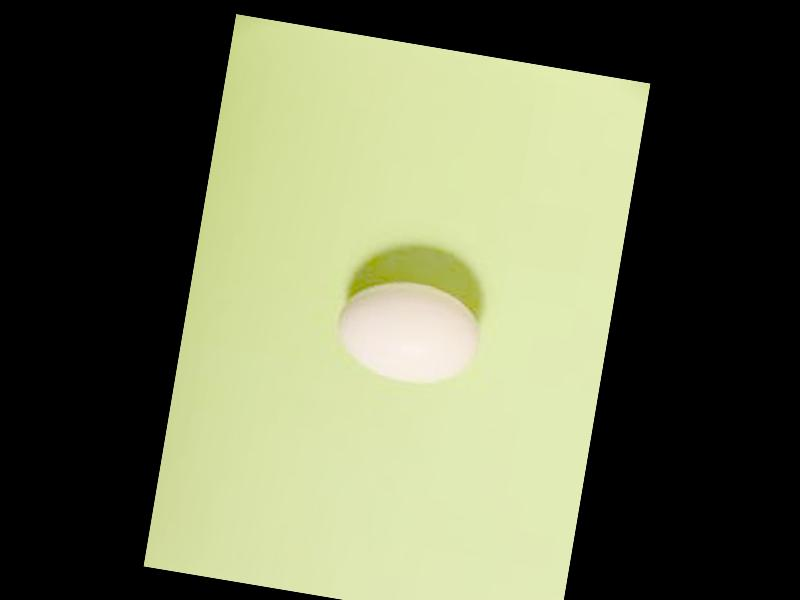Eggs: (328, 271, 486, 389)
